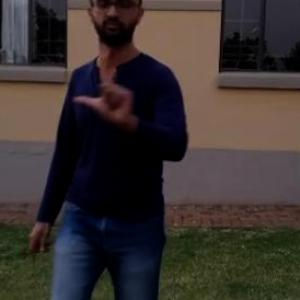land_hand: (69, 53, 149, 129)
